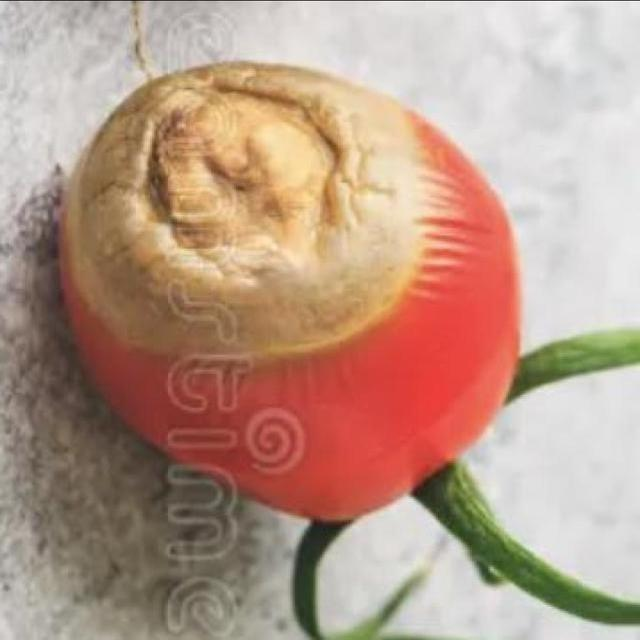Blossom End Rot Fruit: (37, 37, 294, 231)
